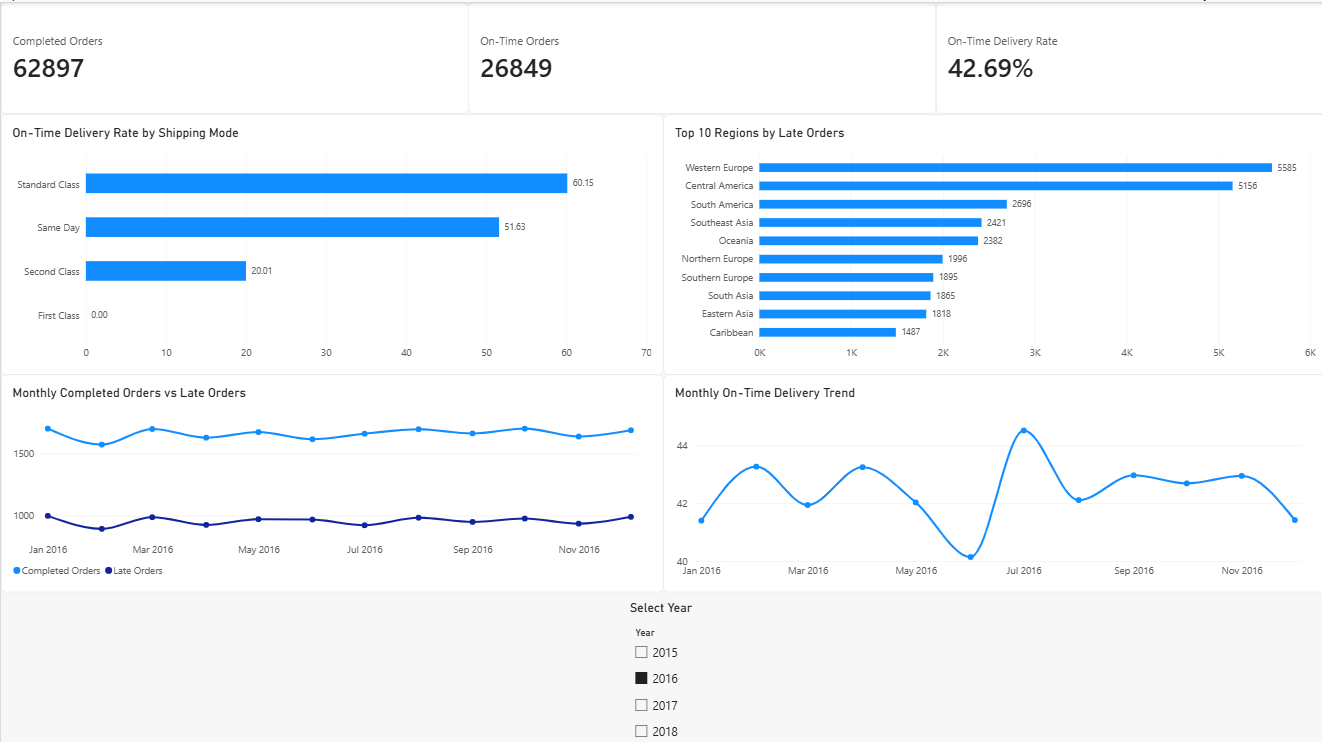

This screenshot's page, from the dashboard's own definition file:
{"tool":"powerbi","page":{"name":"Page 1","canvas":[1920,1080],"ordinal":0},"visuals":[{"type":"cardVisual","fields":{"Data":["Sum(Overall_KPIs.completed_orders)"]},"box":[-0.1,-0.1,677.2,162.6],"z":0},{"type":"cardVisual","fields":{"Data":["Sum(Overall_KPIs.on_time_orders)"]},"box":[677.1,-0.1,677.2,162.6],"z":1000},{"type":"cardVisual","fields":{"Data":["Monthly_Trends.On-Time Delivery Rate"]},"box":[1354.3,-0.1,566,162.6],"z":2000},{"type":"clusteredBarChart","title":"On-Time Delivery Rate by Shipping Mode","fields":{"Category":["Shipping_Modes.shipping_mode"],"Y":["Sum(Shipping_Modes.on_time_delivery_pct)"]},"box":[-0.1,162.5,959.2,376.7],"z":2001},{"type":"clusteredBarChart","title":"Top 10 Regions by Late Orders","fields":{"Category":["Regional_KPIs.order_region"],"Y":["Sum(Regional_KPIs.late_orders)"]},"box":[959.1,162.5,961.2,376.7],"z":2002},{"type":"lineChart","title":"Monthly On-Time Delivery Trend","fields":{"Category":["Monthly_Trends.order_month"],"Y":["Avg(Monthly_Trends.on_time_delivery_pct)"]},"box":[959.1,539.2,961.2,314.9],"z":2003},{"type":"lineChart","title":"Monthly Completed Orders vs Late Orders","fields":{"Category":["Monthly_Trends.order_month"],"Y":["Sum(Monthly_Trends.completed_orders)","Sum(Monthly_Trends.late_orders)"]},"box":[-0.1,539.2,959.2,314.9],"z":2004},{"type":"slicer","title":"Select Year","fields":{"Values":["Monthly_Trends.order_month.Variation.Date Hierarchy.Year"]},"box":[909.7,866.5,96.7,214.1],"z":2005}]}

Visuals, with their boxes in screenshot pixels (x1, y1, x2, y2), scaled from the page's 1920x1080 canvas onto the 1322x742 screenshot:
cardVisual - Sum(Overall_KPIs.completed_orders): 0,0,466,112
cardVisual - Sum(Overall_KPIs.on_time_orders): 466,0,932,112
cardVisual - Monthly_Trends.On-Time Delivery Rate: 932,0,1321,112
"On-Time Delivery Rate by Shipping Mode" clusteredBarChart: 0,112,660,370
"Top 10 Regions by Late Orders" clusteredBarChart: 660,112,1321,370
"Monthly On-Time Delivery Trend" lineChart: 660,370,1321,587
"Monthly Completed Orders vs Late Orders" lineChart: 0,370,660,587
"Select Year" slicer: 626,595,693,741
